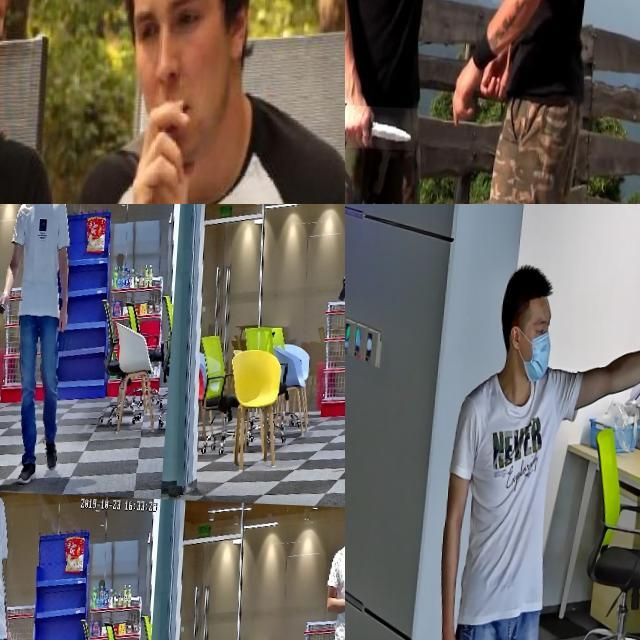-: (345, 103, 425, 147)
gun-knife-thesis - v11 Yolov5 augmented: (0, 594, 19, 640), (0, 289, 16, 324), (339, 271, 345, 291)
